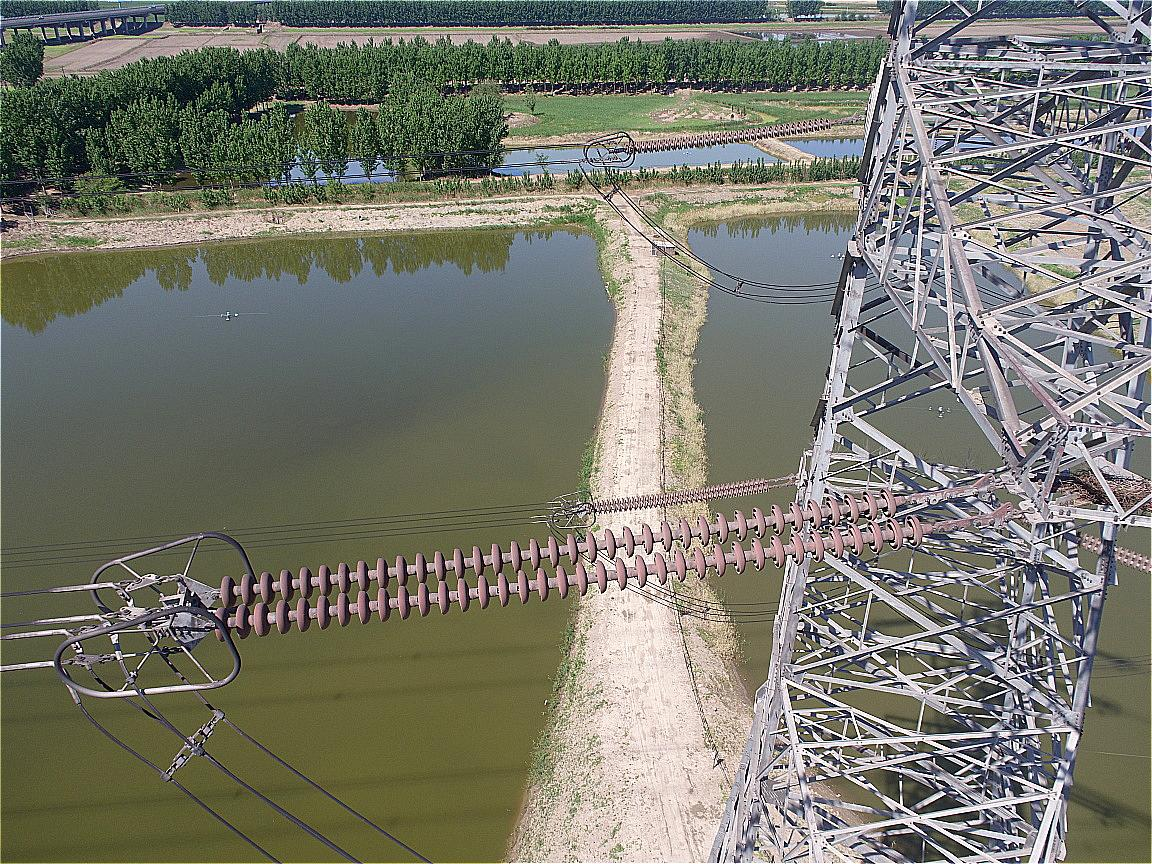insultor1: (212, 486, 923, 643)
insultor2: (627, 113, 833, 156), (588, 471, 770, 515)
